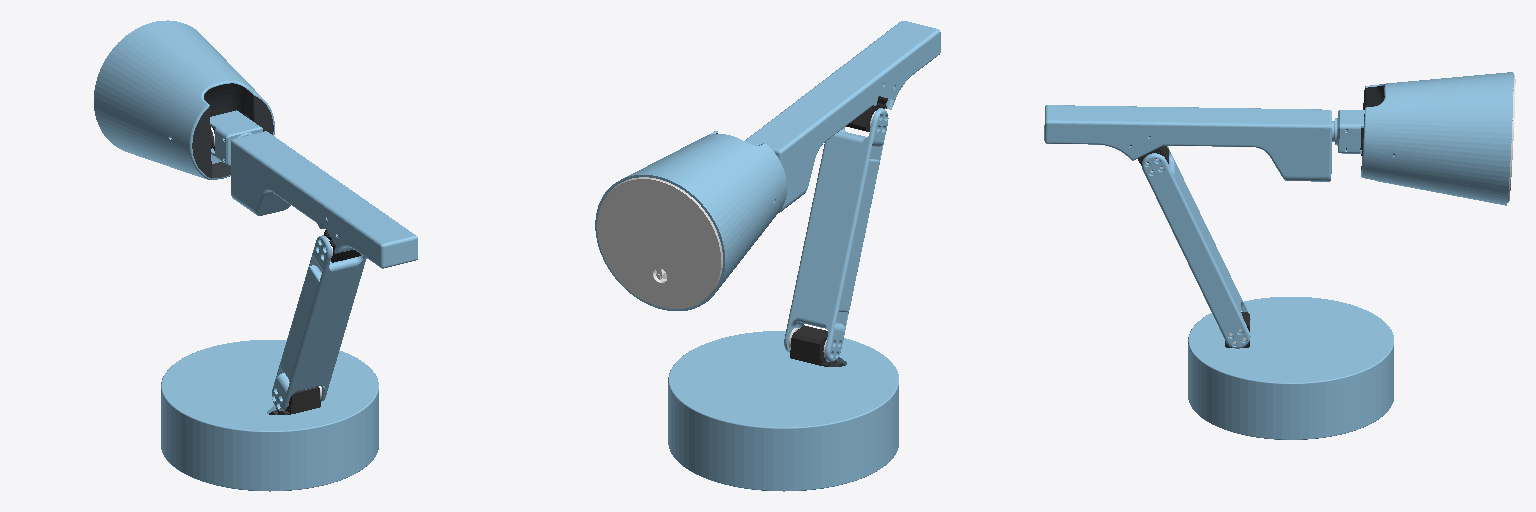
robot.urdf — [local-path]/Documents/robot_export/my_robot:
<?xml version="1.0" ?>
<!-- Generated using onshape-to-robot -->
<!-- Onshape document_id: 1a1833bc4c8907ac4cd99037 / workspace_id: ee4c170496e9a387969f62ff -->
<robot name="[local-path]/Documents/robot_export/my_robot">
  <!-- Link base_plate -->
  <link name="base_plate">
    <inertial>
      <origin xyz="-0.000443117 0.00420529 0.00288671" rpy="0 0 0"/>
      <mass value="0.155027"/>
      <inertia ixx="0.000332137" ixy="-3.36639e-06" ixz="4.00754e-07" iyy="0.000374494" iyz="6.59039e-07" izz="0.000705028"/>
    </inertial>
    <!-- Part base_plate -->
    <visual>
      <origin xyz="0 -0 0.0248" rpy="0 -0 0"/>
      <geometry>
        <mesh filename="assets/base_plate.stl"/>
      </geometry>
      <material name="base_plate_material">
        <color rgba="0.262745 0.282353 0.301961 1"/>
      </material>
    </visual>
    <collision>
      <origin xyz="0 -0 0.0248" rpy="0 -0 0"/>
      <geometry>
        <mesh filename="assets/base_plate.stl"/>
      </geometry>
    </collision>
  </link>
  <!-- Link base_subassembly -->
  <link name="base_subassembly">
    <inertial>
      <origin xyz="-0.00446763 0.000550215 -0.0283352" rpy="0 0 0"/>
      <mass value="0.495716"/>
      <inertia ixx="0.00145708" ixy="-5.83622e-06" ixz="-1.08294e-05" iyy="0.00165832" iyz="3.63143e-06" izz="0.00277014"/>
    </inertial>
    <!-- Part base_core -->
    <visual>
      <origin xyz="-0.00011 -0 -0.00641995" rpy="3.14159 0 1.5708"/>
      <geometry>
        <mesh filename="assets/base_core.stl"/>
      </geometry>
      <material name="base_core_material">
        <color rgba="0.262745 0.282353 0.301961 1"/>
      </material>
    </visual>
    <collision>
      <origin xyz="-0.00011 -0 -0.00641995" rpy="3.14159 0 1.5708"/>
      <geometry>
        <mesh filename="assets/base_core.stl"/>
      </geometry>
    </collision>
    <!-- Part base_cover -->
    <visual>
      <origin xyz="-0.00011 -0 -0.00641995" rpy="3.14159 0 1.5708"/>
      <geometry>
        <mesh filename="assets/base_cover.stl"/>
      </geometry>
      <material name="base_cover_material">
        <color rgba="0.615686 0.811765 0.929412 1"/>
      </material>
    </visual>
    <collision>
      <origin xyz="-0.00011 -0 -0.00641995" rpy="3.14159 0 1.5708"/>
      <geometry>
        <mesh filename="assets/base_cover.stl"/>
      </geometry>
    </collision>
    <!-- Part ac1 -->
    <visual>
      <origin xyz="-0.0125 0 -0.0187" rpy="-0 -0 -0"/>
      <geometry>
        <mesh filename="assets/ac1.stl"/>
      </geometry>
      <material name="ac1_material">
        <color rgba="0.960784 0.960784 0.964706 1"/>
      </material>
    </visual>
    <collision>
      <origin xyz="-0.0125 0 -0.0187" rpy="-0 -0 -0"/>
      <geometry>
        <mesh filename="assets/ac1.stl"/>
      </geometry>
    </collision>
    <!-- Part ac2 -->
    <visual>
      <origin xyz="-0 -0.0125 -0.0526" rpy="3.14159 0 1.5708"/>
      <geometry>
        <mesh filename="assets/ac2.stl"/>
      </geometry>
      <material name="ac2_material">
        <color rgba="0.960784 0.960784 0.964706 1"/>
      </material>
    </visual>
    <collision>
      <origin xyz="-0 -0.0125 -0.0526" rpy="3.14159 0 1.5708"/>
      <geometry>
        <mesh filename="assets/ac2.stl"/>
      </geometry>
    </collision>
    <!-- Part main -->
    <visual>
      <origin xyz="-0.0125 0 -0.0187" rpy="-0 -0 -0"/>
      <geometry>
        <mesh filename="assets/main.stl"/>
      </geometry>
      <material name="main_material">
        <color rgba="0.247059 0.247059 0.247059 1"/>
      </material>
    </visual>
    <collision>
      <origin xyz="-0.0125 0 -0.0187" rpy="-0 -0 -0"/>
      <geometry>
        <mesh filename="assets/main.stl"/>
      </geometry>
    </collision>
    <!-- Part ac1_2 -->
    <visual>
      <origin xyz="-0.05211 0.000792786 -0.04603" rpy="-1.5708 1.5708 0"/>
      <geometry>
        <mesh filename="assets/ac1.stl"/>
      </geometry>
      <material name="ac1_2_material">
        <color rgba="0.960784 0.960784 0.964706 1"/>
      </material>
    </visual>
    <collision>
      <origin xyz="-0.05211 0.000792786 -0.04603" rpy="-1.5708 1.5708 0"/>
      <geometry>
        <mesh filename="assets/ac1.stl"/>
      </geometry>
    </collision>
    <!-- Part ac2_2 -->
    <visual>
      <origin xyz="-0.03961 -0.0331072 -0.05853" rpy="-1.5708 0 3.14159"/>
      <geometry>
        <mesh filename="assets/ac2.stl"/>
      </geometry>
      <material name="ac2_2_material">
        <color rgba="0.960784 0.960784 0.964706 1"/>
      </material>
    </visual>
    <collision>
      <origin xyz="-0.03961 -0.0331072 -0.05853" rpy="-1.5708 0 3.14159"/>
      <geometry>
        <mesh filename="assets/ac2.stl"/>
      </geometry>
    </collision>
    <!-- Part main_2 -->
    <visual>
      <origin xyz="-0.05211 0.000792786 -0.04603" rpy="-1.5708 1.5708 0"/>
      <geometry>
        <mesh filename="assets/main.stl"/>
      </geometry>
      <material name="main_2_material">
        <color rgba="0.247059 0.247059 0.247059 1"/>
      </material>
    </visual>
    <collision>
      <origin xyz="-0.05211 0.000792786 -0.04603" rpy="-1.5708 1.5708 0"/>
      <geometry>
        <mesh filename="assets/main.stl"/>
      </geometry>
    </collision>
  </link>
  <!-- Link bottom_link_subassembly -->
  <link name="bottom_link_subassembly">
    <inertial>
      <origin xyz="0.0915618 -0.040205 0.022213" rpy="0 0 0"/>
      <mass value="0.116218"/>
      <inertia ixx="9.55792e-05" ixy="0.00013276" ixz="-1e-11" iyy="0.000339628" iyz="4e-12" izz="0.000377232"/>
    </inertial>
    <!-- Part wire_cover -->
    <visual>
      <origin xyz="0 -0 0.01875" rpy="-0.109845 1.5708 0"/>
      <geometry>
        <mesh filename="assets/wire_cover.stl"/>
      </geometry>
      <material name="wire_cover_material">
        <color rgba="0.615686 0.811765 0.929412 1"/>
      </material>
    </visual>
    <collision>
      <origin xyz="0 -0 0.01875" rpy="-0.109845 1.5708 0"/>
      <geometry>
        <mesh filename="assets/wire_cover.stl"/>
      </geometry>
    </collision>
    <!-- Part bottom_link -->
    <visual>
      <origin xyz="0 -0 0.01875" rpy="-0.109845 1.5708 0"/>
      <geometry>
        <mesh filename="assets/bottom_link.stl"/>
      </geometry>
      <material name="bottom_link_material">
        <color rgba="0.615686 0.811765 0.929412 1"/>
      </material>
    </visual>
    <collision>
      <origin xyz="0 -0 0.01875" rpy="-0.109845 1.5708 0"/>
      <geometry>
        <mesh filename="assets/bottom_link.stl"/>
      </geometry>
    </collision>
  </link>
  <!-- Link top_link_subassembly -->
  <link name="top_link_subassembly">
    <inertial>
      <origin xyz="-0.00059492 0.0466739 -0.019299" rpy="0 0 0"/>
      <mass value="0.374214"/>
      <inertia ixx="0.00208717" ixy="-0.00129841" ixz="4.19603e-07" iyy="0.000993664" iyz="2.39523e-06" izz="0.00297008"/>
    </inertial>
    <!-- Part top_link_wire_cover -->
    <visual>
      <origin xyz="0.0491092 0.144904 -0.0194359" rpy="-0.523599 -1.5708 0"/>
      <geometry>
        <mesh filename="assets/top_link_wire_cover.stl"/>
      </geometry>
      <material name="top_link_wire_cover_material">
        <color rgba="0.615686 0.811765 0.929412 1"/>
      </material>
    </visual>
    <collision>
      <origin xyz="0.0491092 0.144904 -0.0194359" rpy="-0.523599 -1.5708 0"/>
      <geometry>
        <mesh filename="assets/top_link_wire_cover.stl"/>
      </geometry>
    </collision>
    <!-- Part top_link -->
    <visual>
      <origin xyz="0.0491092 0.144904 -0.0194359" rpy="-0.523599 -1.5708 0"/>
      <geometry>
        <mesh filename="assets/top_link.stl"/>
      </geometry>
      <material name="top_link_material">
        <color rgba="0.615686 0.811765 0.929412 1"/>
      </material>
    </visual>
    <collision>
      <origin xyz="0.0491092 0.144904 -0.0194359" rpy="-0.523599 -1.5708 0"/>
      <geometry>
        <mesh filename="assets/top_link.stl"/>
      </geometry>
    </collision>
    <!-- Part ac1_3 -->
    <visual>
      <origin xyz="0.0613346 0.141079 -0.0194359" rpy="1.5708 -0 2.61799"/>
      <geometry>
        <mesh filename="assets/ac1.stl"/>
      </geometry>
      <material name="ac1_3_material">
        <color rgba="0.960784 0.960784 0.964706 1"/>
      </material>
    </visual>
    <collision>
      <origin xyz="0.0613346 0.141079 -0.0194359" rpy="1.5708 -0 2.61799"/>
      <geometry>
        <mesh filename="assets/ac1.stl"/>
      </geometry>
    </collision>
    <!-- Part ac2_3 -->
    <visual>
      <origin xyz="0.0335592 0.11797 -0.0319359" rpy="1.0472 -1.5708 0"/>
      <geometry>
        <mesh filename="assets/ac2.stl"/>
      </geometry>
      <material name="ac2_3_material">
        <color rgba="0.960784 0.960784 0.964706 1"/>
      </material>
    </visual>
    <collision>
      <origin xyz="0.0335592 0.11797 -0.0319359" rpy="1.0472 -1.5708 0"/>
      <geometry>
        <mesh filename="assets/ac2.stl"/>
      </geometry>
    </collision>
    <!-- Part main_3 -->
    <visual>
      <origin xyz="0.0613346 0.141079 -0.0194359" rpy="1.5708 -0 2.61799"/>
      <geometry>
        <mesh filename="assets/main.stl"/>
      </geometry>
      <material name="main_3_material">
        <color rgba="0.247059 0.247059 0.247059 1"/>
      </material>
    </visual>
    <collision>
      <origin xyz="0.0613346 0.141079 -0.0194359" rpy="1.5708 -0 2.61799"/>
      <geometry>
        <mesh filename="assets/main.stl"/>
      </geometry>
    </collision>
    <!-- Part ac1_4 -->
    <visual>
      <origin xyz="-0.0125 0 -0.0187" rpy="-0 -0 0"/>
      <geometry>
        <mesh filename="assets/ac1.stl"/>
      </geometry>
      <material name="ac1_4_material">
        <color rgba="0.960784 0.960784 0.964706 1"/>
      </material>
    </visual>
    <collision>
      <origin xyz="-0.0125 0 -0.0187" rpy="-0 -0 0"/>
      <geometry>
        <mesh filename="assets/ac1.stl"/>
      </geometry>
    </collision>
    <!-- Part ac2_4 -->
    <visual>
      <origin xyz="0 -0.0125 -0.0526" rpy="-3.14159 -1e-12 1.5708"/>
      <geometry>
        <mesh filename="assets/ac2.stl"/>
      </geometry>
      <material name="ac2_4_material">
        <color rgba="0.960784 0.960784 0.964706 1"/>
      </material>
    </visual>
    <collision>
      <origin xyz="0 -0.0125 -0.0526" rpy="-3.14159 -1e-12 1.5708"/>
      <geometry>
        <mesh filename="assets/ac2.stl"/>
      </geometry>
    </collision>
    <!-- Part main_4 -->
    <visual>
      <origin xyz="-0.0125 0 -0.0187" rpy="0 0 0"/>
      <geometry>
        <mesh filename="assets/main.stl"/>
      </geometry>
      <material name="main_4_material">
        <color rgba="0.247059 0.247059 0.247059 1"/>
      </material>
    </visual>
    <collision>
      <origin xyz="-0.0125 0 -0.0187" rpy="0 0 0"/>
      <geometry>
        <mesh filename="assets/main.stl"/>
      </geometry>
    </collision>
  </link>
  <!-- Link head_link_subassembly -->
  <link name="head_link_subassembly">
    <inertial>
      <origin xyz="0.000732718 2.27e-10 -0.027586" rpy="0 0 0"/>
      <mass value="0.0608397"/>
      <inertia ixx="1.71815e-05" ixy="9e-12" ixz="3.7519e-07" iyy="1.94049e-05" iyz="-1e-12" izz="1.19493e-05"/>
    </inertial>
    <!-- Part head_link -->
    <visual>
      <origin xyz="0 0 -0.0427" rpy="-1.5708 -0 0"/>
      <geometry>
        <mesh filename="assets/head_link.stl"/>
      </geometry>
      <material name="head_link_material">
        <color rgba="0.615686 0.811765 0.929412 1"/>
      </material>
    </visual>
    <collision>
      <origin xyz="0 0 -0.0427" rpy="-1.5708 -0 0"/>
      <geometry>
        <mesh filename="assets/head_link.stl"/>
      </geometry>
    </collision>
    <!-- Part ac1_5 -->
    <visual>
      <origin xyz="0.000883432 -0 -0.03011" rpy="0 1.5708 0"/>
      <geometry>
        <mesh filename="assets/ac1.stl"/>
      </geometry>
      <material name="ac1_5_material">
        <color rgba="0.960784 0.960784 0.964706 1"/>
      </material>
    </visual>
    <collision>
      <origin xyz="0.000883432 -0 -0.03011" rpy="0 1.5708 0"/>
      <geometry>
        <mesh filename="assets/ac1.stl"/>
      </geometry>
    </collision>
    <!-- Part ac2_5 -->
    <visual>
      <origin xyz="-0.0330166 -0.0125 -0.04261" rpy="-1.5708 1e-12 1.5708"/>
      <geometry>
        <mesh filename="assets/ac2.stl"/>
      </geometry>
      <material name="ac2_5_material">
        <color rgba="0.960784 0.960784 0.964706 1"/>
      </material>
    </visual>
    <collision>
      <origin xyz="-0.0330166 -0.0125 -0.04261" rpy="-1.5708 1e-12 1.5708"/>
      <geometry>
        <mesh filename="assets/ac2.stl"/>
      </geometry>
    </collision>
    <!-- Part main_5 -->
    <visual>
      <origin xyz="0.000883432 -0 -0.03011" rpy="0 1.5708 0"/>
      <geometry>
        <mesh filename="assets/main.stl"/>
      </geometry>
      <material name="main_5_material">
        <color rgba="0.247059 0.247059 0.247059 1"/>
      </material>
    </visual>
    <collision>
      <origin xyz="0.000883432 -0 -0.03011" rpy="0 1.5708 0"/>
      <geometry>
        <mesh filename="assets/main.stl"/>
      </geometry>
    </collision>
  </link>
  <!-- Link head_subassembly -->
  <link name="head_subassembly">
    <inertial>
      <origin xyz="0.0542084 0.000518535 0.0187479" rpy="0 0 0"/>
      <mass value="0.249707"/>
      <inertia ixx="0.000578634" ixy="-8.77052e-06" ixz="1.687e-08" iyy="0.000828143" iyz="-6.12e-10" izz="0.000789137"/>
    </inertial>
    <!-- Part head_diffuser -->
    <visual>
      <origin xyz="0 0 0.01875" rpy="1.5708 1.5708 0"/>
      <geometry>
        <mesh filename="assets/head_diffuser.stl"/>
      </geometry>
      <material name="head_diffuser_material">
        <color rgba="0.917647 0.917647 0.917647 1"/>
      </material>
    </visual>
    <collision>
      <origin xyz="0 0 0.01875" rpy="1.5708 1.5708 0"/>
      <geometry>
        <mesh filename="assets/head_diffuser.stl"/>
      </geometry>
    </collision>
    <!-- Part led_mount -->
    <visual>
      <origin xyz="0 0 0.01875" rpy="1.5708 1.5708 0"/>
      <geometry>
        <mesh filename="assets/led_mount.stl"/>
      </geometry>
      <material name="led_mount_material">
        <color rgba="0.262745 0.282353 0.301961 1"/>
      </material>
    </visual>
    <collision>
      <origin xyz="0 0 0.01875" rpy="1.5708 1.5708 0"/>
      <geometry>
        <mesh filename="assets/led_mount.stl"/>
      </geometry>
    </collision>
    <!-- Part head_core -->
    <visual>
      <origin xyz="0 0 0.01875" rpy="1.5708 1.5708 0"/>
      <geometry>
        <mesh filename="assets/head_core.stl"/>
      </geometry>
      <material name="head_core_material">
        <color rgba="0.262745 0.282353 0.301961 1"/>
      </material>
    </visual>
    <collision>
      <origin xyz="0 0 0.01875" rpy="1.5708 1.5708 0"/>
      <geometry>
        <mesh filename="assets/head_core.stl"/>
      </geometry>
    </collision>
    <!-- Part shade -->
    <visual>
      <origin xyz="0 0 0.01875" rpy="1.5708 1.5708 0"/>
      <geometry>
        <mesh filename="assets/shade.stl"/>
      </geometry>
      <material name="shade_material">
        <color rgba="0.615686 0.811765 0.929412 1"/>
      </material>
    </visual>
    <collision>
      <origin xyz="0 0 0.01875" rpy="1.5708 1.5708 0"/>
      <geometry>
        <mesh filename="assets/shade.stl"/>
      </geometry>
    </collision>
    <!-- Part fade_diffuser -->
    <visual>
      <origin xyz="0 0 0.01875" rpy="1.5708 1.5708 0"/>
      <geometry>
        <mesh filename="assets/fade_diffuser.stl"/>
      </geometry>
      <material name="fade_diffuser_material">
        <color rgba="0.262745 0.282353 0.301961 1"/>
      </material>
    </visual>
    <collision>
      <origin xyz="0 0 0.01875" rpy="1.5708 1.5708 0"/>
      <geometry>
        <mesh filename="assets/fade_diffuser.stl"/>
      </geometry>
    </collision>
    <!-- Part camera_mount -->
    <visual>
      <origin xyz="0 0 0.01875" rpy="1.5708 1.5708 0"/>
      <geometry>
        <mesh filename="assets/camera_mount.stl"/>
      </geometry>
      <material name="camera_mount_material">
        <color rgba="0.917647 0.917647 0.917647 1"/>
      </material>
    </visual>
    <collision>
      <origin xyz="0 0 0.01875" rpy="1.5708 1.5708 0"/>
      <geometry>
        <mesh filename="assets/camera_mount.stl"/>
      </geometry>
    </collision>
  </link>
  <!-- Joint from head_link_subassembly to head_subassembly -->
  <joint name="servo5" type="revolute">
    <origin xyz="0.0195834 -0 -0.04261" rpy="1.5708 1.53584 -1.5708"/>
    <parent link="head_link_subassembly"/>
    <child link="head_subassembly"/>
    <axis xyz="0 0 1"/>
    <limit effort="10" velocity="10" lower="-1.37886" upper="1.18677"/>
  </joint>
  <!-- Joint from top_link_subassembly to head_link_subassembly -->
  <joint name="servo4" type="revolute">
    <origin xyz="0.0598592 0.163523 -0.0194359" rpy="1.0472 -1.5708 0"/>
    <parent link="top_link_subassembly"/>
    <child link="head_link_subassembly"/>
    <axis xyz="0 0 1"/>
    <limit effort="10" velocity="10" lower="-3.14159" upper="3.14159"/>
  </joint>
  <!-- Joint from bottom_link_subassembly to top_link_subassembly -->
  <joint name="servo3" type="revolute">
    <origin xyz="0.183124 -0.0804099 -0" rpy="3.14159 -0 2.6358"/>
    <parent link="bottom_link_subassembly"/>
    <child link="top_link_subassembly"/>
    <axis xyz="0 0 1"/>
    <limit effort="10" velocity="10" lower="-0.903613" upper="1.47876"/>
  </joint>
  <!-- Joint from base_subassembly to bottom_link_subassembly -->
  <joint name="servo2" type="revolute">
    <origin xyz="-0.05211 0.0194928 -0.05853" rpy="1.5708 1.5708 0"/>
    <parent link="base_subassembly"/>
    <child link="bottom_link_subassembly"/>
    <axis xyz="0 0 1"/>
    <limit effort="10" velocity="10" lower="-1.15704" upper="1.98455"/>
  </joint>
  <!-- Joint from base_plate to base_subassembly -->
  <joint name="servo1" type="revolute">
    <origin xyz="0 0 0.01834" rpy="-3.14159 -0 1.5708"/>
    <parent link="base_plate"/>
    <child link="base_subassembly"/>
    <axis xyz="0 0 1"/>
    <limit effort="10" velocity="10" lower="-3.14159" upper="3.14159"/>
  </joint>
</robot>

--- Facts derived from the render (not from the file) ---
Views: 3 orthographic renders of the robot side by side, from view 1: azimuth 30°, elevation 25°; view 2: azimuth 150°, elevation 25°; view 3: azimuth 270°, elevation 25°.
Robot: [local-path]/Documents/robot_export/my_robot — 6 links, 5 joints (5 revolute); root link base_plate; default pose: every joint at zero.
Visible links, largest first — view 1: base_subassembly, head_subassembly, top_link_subassembly, bottom_link_subassembly, head_link_subassembly; view 2: base_subassembly, head_subassembly, bottom_link_subassembly, top_link_subassembly; view 3: base_subassembly, head_subassembly, top_link_subassembly, bottom_link_subassembly, head_link_subassembly.
Boxes of the visible links, x1,y1,x2,y2 form: base_subassembly: (161, 340, 378, 491); head_subassembly: (94, 20, 274, 179); top_link_subassembly: (231, 131, 417, 268); bottom_link_subassembly: (272, 235, 366, 410); head_link_subassembly: (210, 110, 262, 165); base_subassembly: (668, 325, 898, 491); head_subassembly: (595, 131, 786, 310); bottom_link_subassembly: (784, 108, 888, 361); top_link_subassembly: (745, 21, 940, 212); base_subassembly: (1188, 297, 1393, 439); head_subassembly: (1361, 72, 1515, 205); top_link_subassembly: (1044, 105, 1331, 181); bottom_link_subassembly: (1142, 146, 1250, 348); head_link_subassembly: (1332, 110, 1364, 153).
Bounding box of the posed robot: 0.2 × 0.4565 × 0.3412 m (x, y, z).
Meshes: 17 distinct files referenced, 28 mesh visuals loaded (16 binary STL); not drawn: 1 (reference not matched to a file when rendering).
